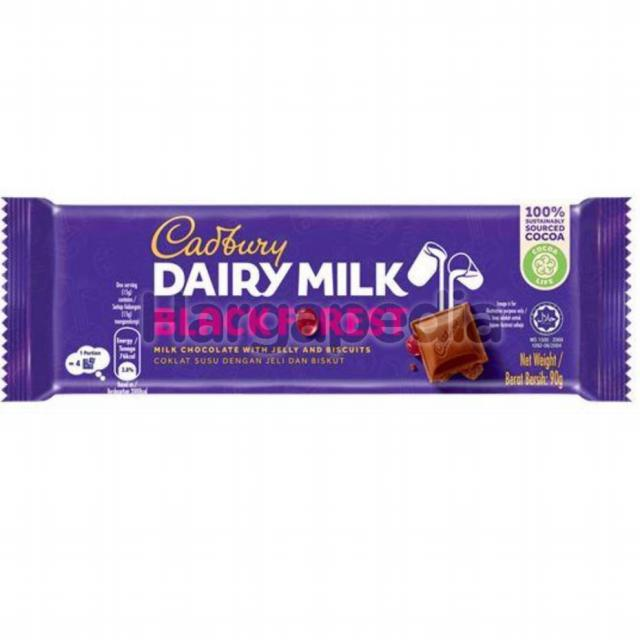cadbury: (29, 205, 602, 395)
